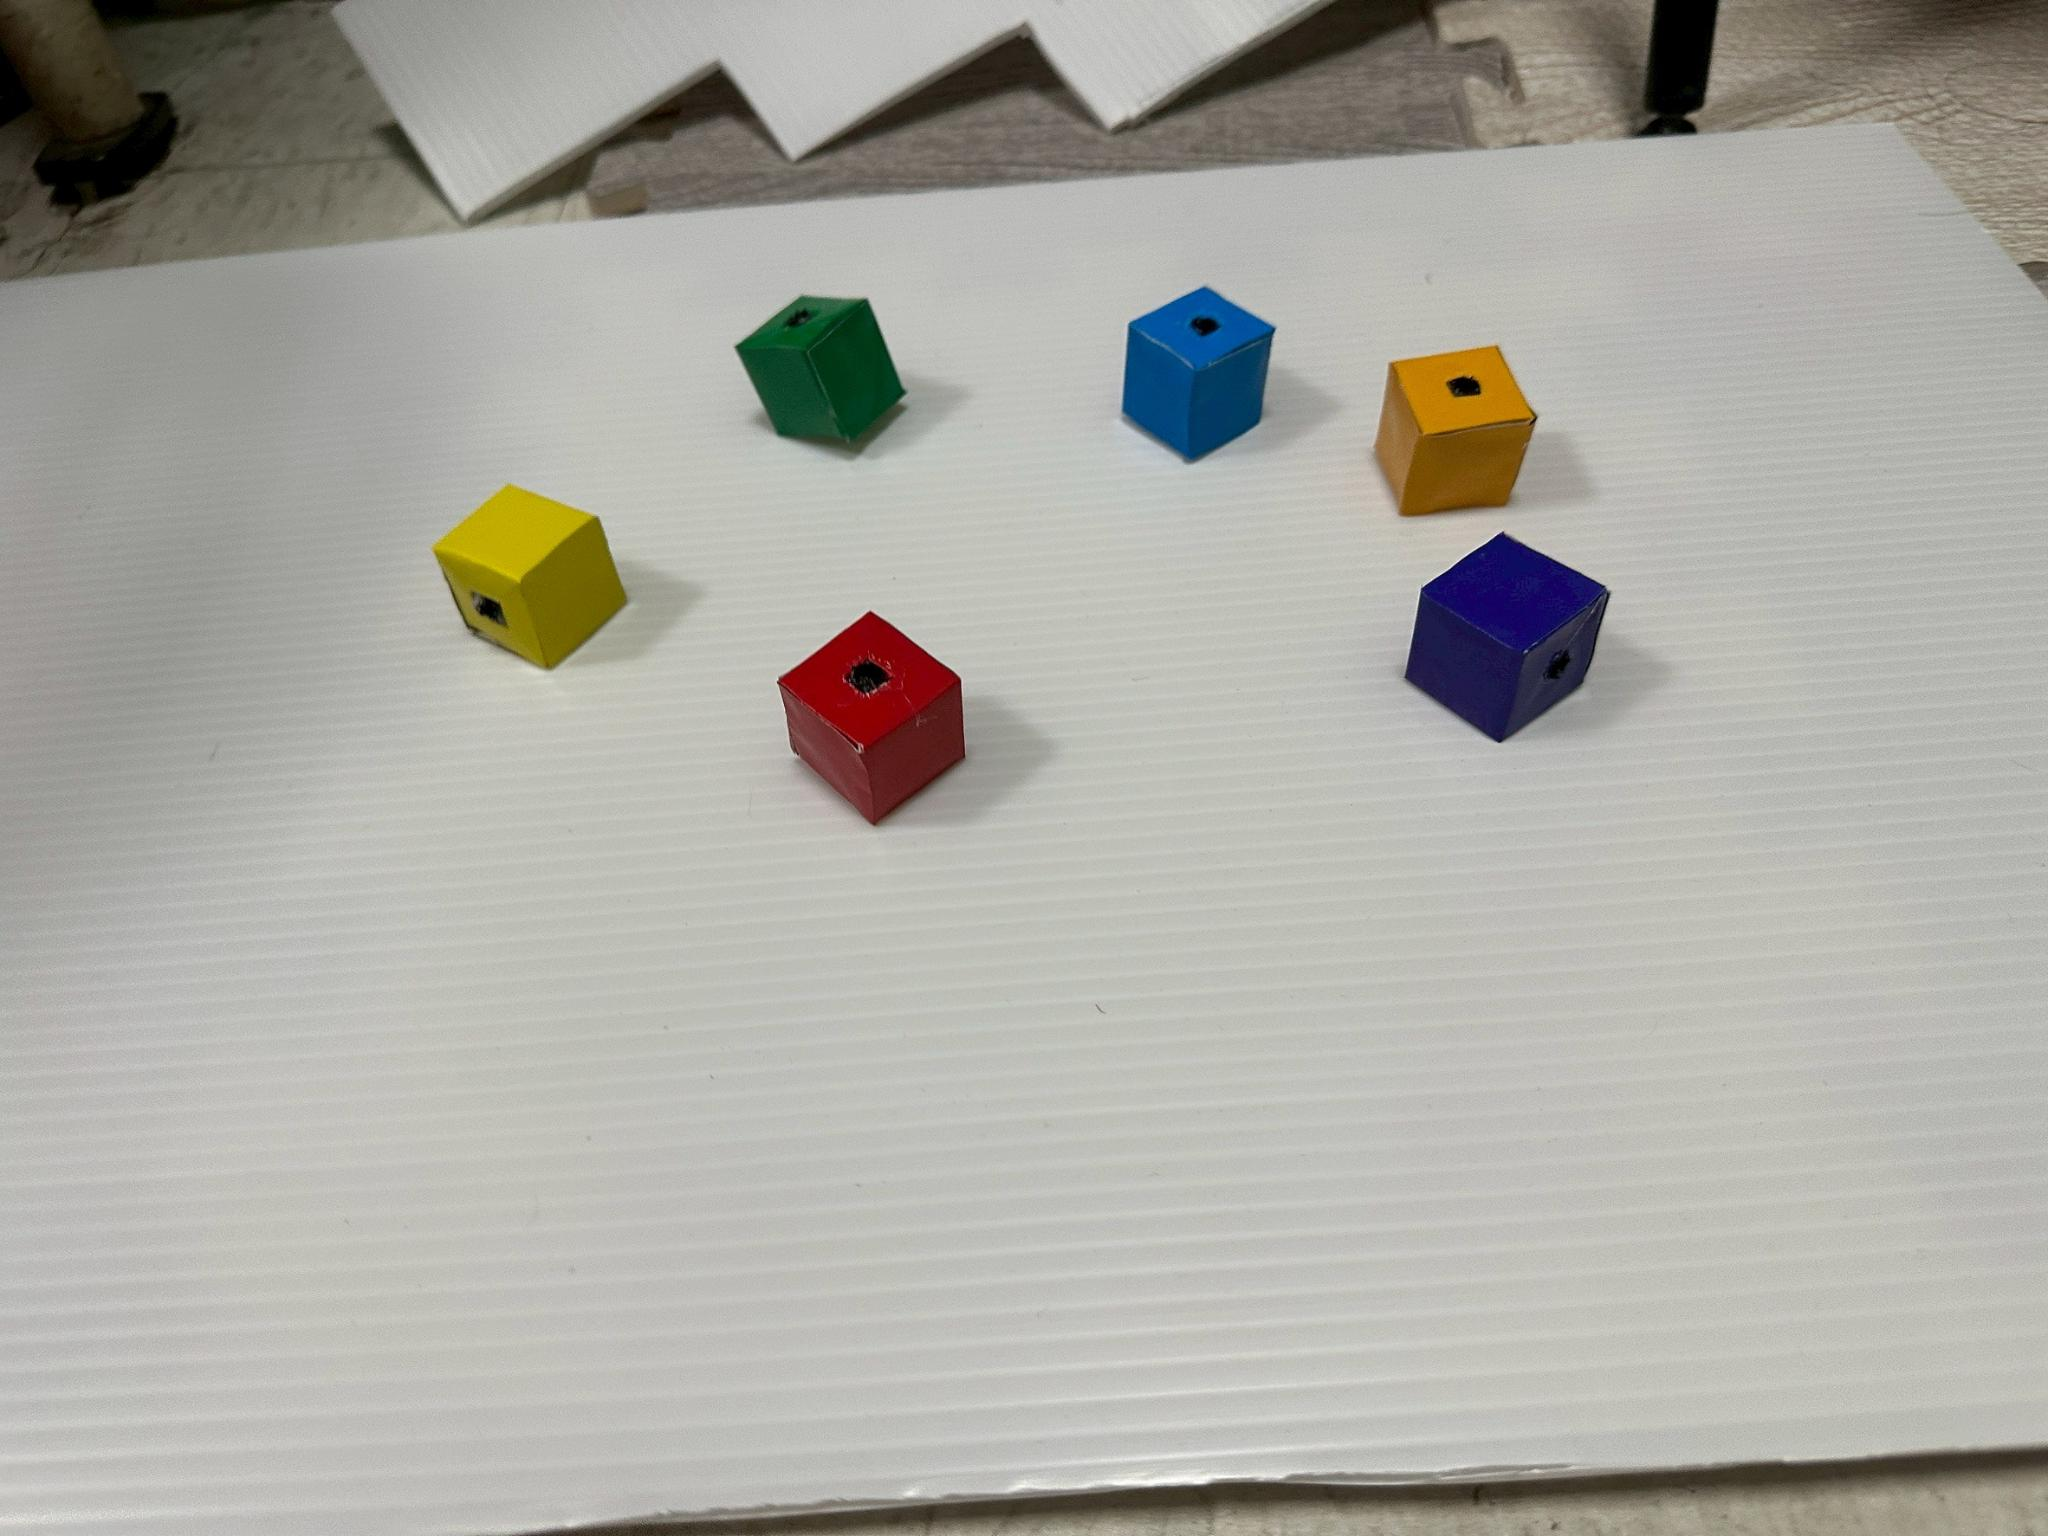cube: (1405, 534, 1608, 741), (779, 615, 963, 823), (434, 486, 624, 670), (1376, 347, 1535, 515), (1122, 289, 1274, 460), (737, 297, 905, 442)
